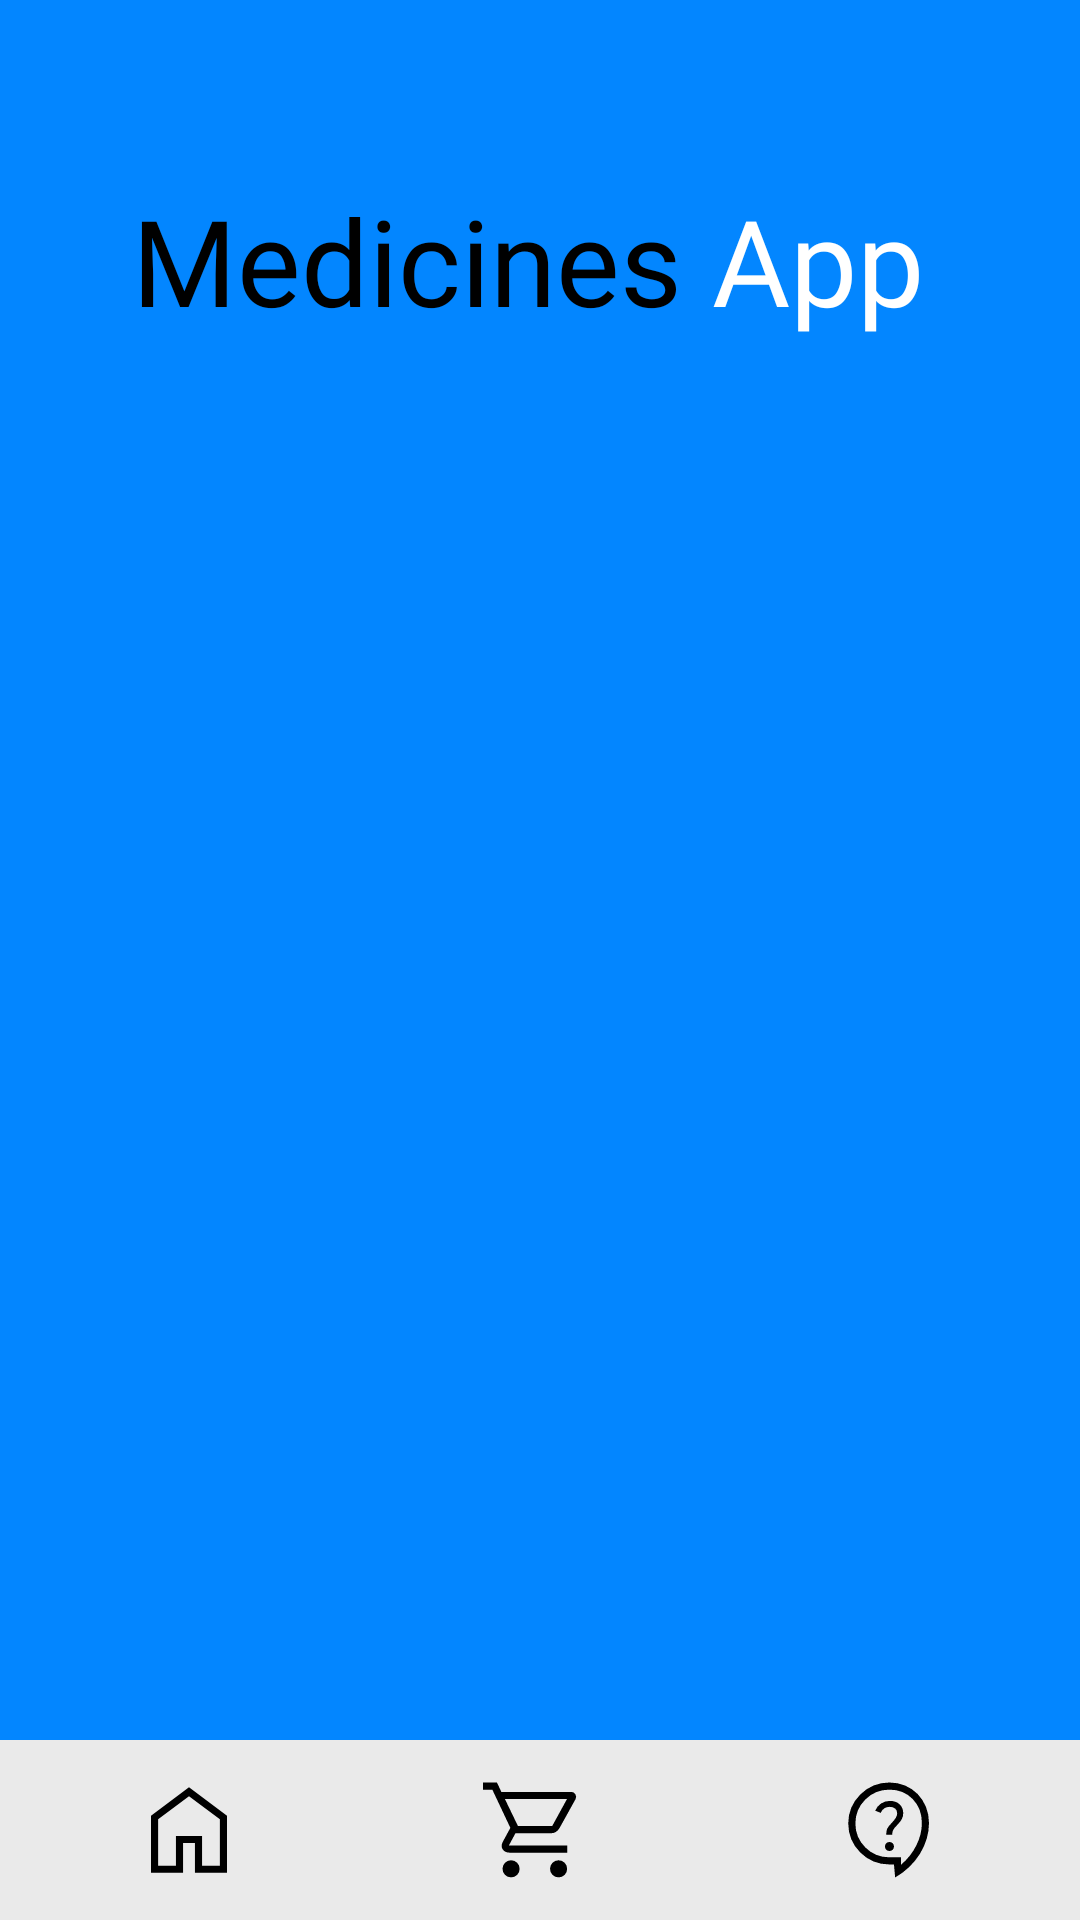

Where to tap for icons on this 1080w x 1920h app screen, as (x,y):
Cart: (529,1830)
Home: (189,1830)
